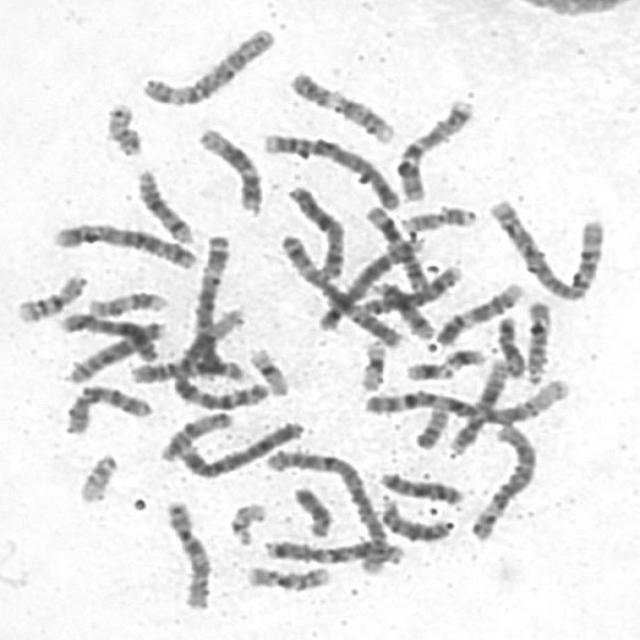A1: (358, 373, 576, 426), (166, 303, 267, 411)
A2: (259, 443, 392, 577), (484, 191, 608, 301)
A3: (273, 228, 410, 349), (188, 230, 238, 383)
B4: (255, 126, 405, 211), (174, 416, 307, 480)
B5: (311, 230, 426, 333), (46, 216, 200, 271)
C10: (159, 494, 215, 612), (57, 379, 156, 437)
C11: (360, 200, 433, 292), (124, 352, 255, 386)
C12: (443, 352, 513, 454), (192, 120, 267, 214)
C6: (136, 21, 279, 108), (464, 419, 541, 542)
C7: (392, 92, 478, 204), (258, 532, 409, 568)
C8: (60, 314, 168, 385), (352, 259, 467, 317)
C9: (284, 64, 399, 144), (431, 277, 527, 347)
D13: (374, 490, 456, 544), (373, 466, 468, 506)
D14: (130, 163, 197, 245), (365, 274, 437, 342)
D15: (154, 406, 236, 463), (520, 295, 556, 385)
E16: (10, 267, 90, 323), (241, 559, 334, 593)
E17: (81, 284, 171, 319), (398, 200, 480, 234)
E18: (289, 481, 336, 538), (492, 309, 530, 379)
F19: (244, 342, 292, 398), (352, 333, 390, 393)
F20: (100, 97, 147, 157), (409, 398, 454, 450)
G21: (400, 356, 459, 383), (438, 342, 490, 372)
G22: (72, 447, 121, 505), (224, 497, 270, 548)
X: (280, 178, 350, 281), (55, 306, 162, 363)
